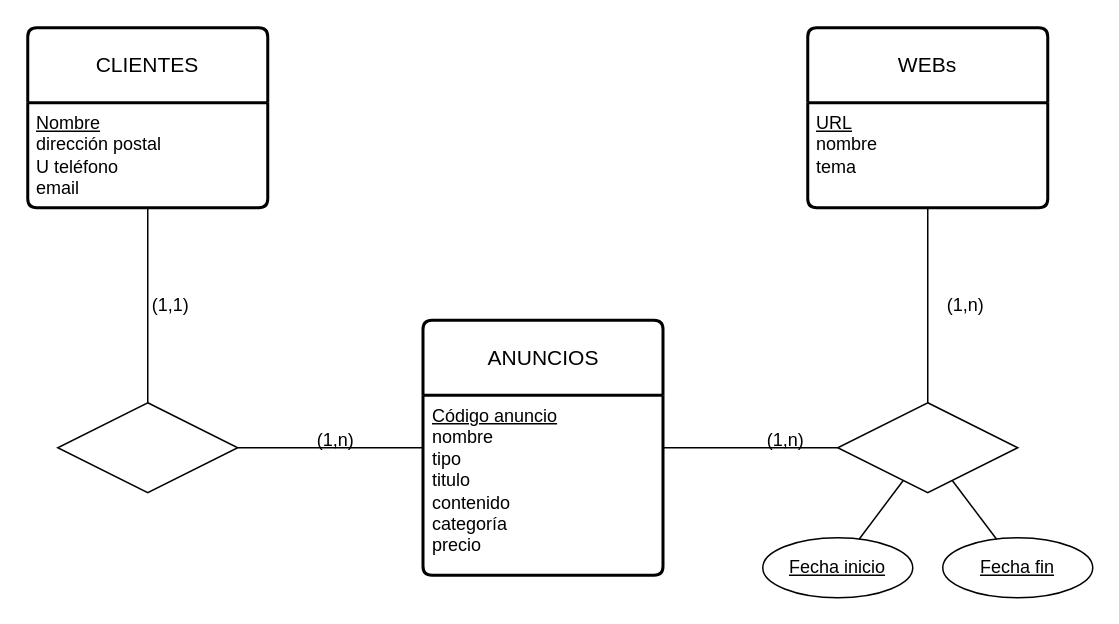
The diagram is 1119 pixels wide and 624 high, and some of its shapes have lost their labels. Each missing label, with the centre of its shape:
"Aparecen NxM" belongs at point 927,447.
"Contratan 1xN" belongs at point 147,447.
